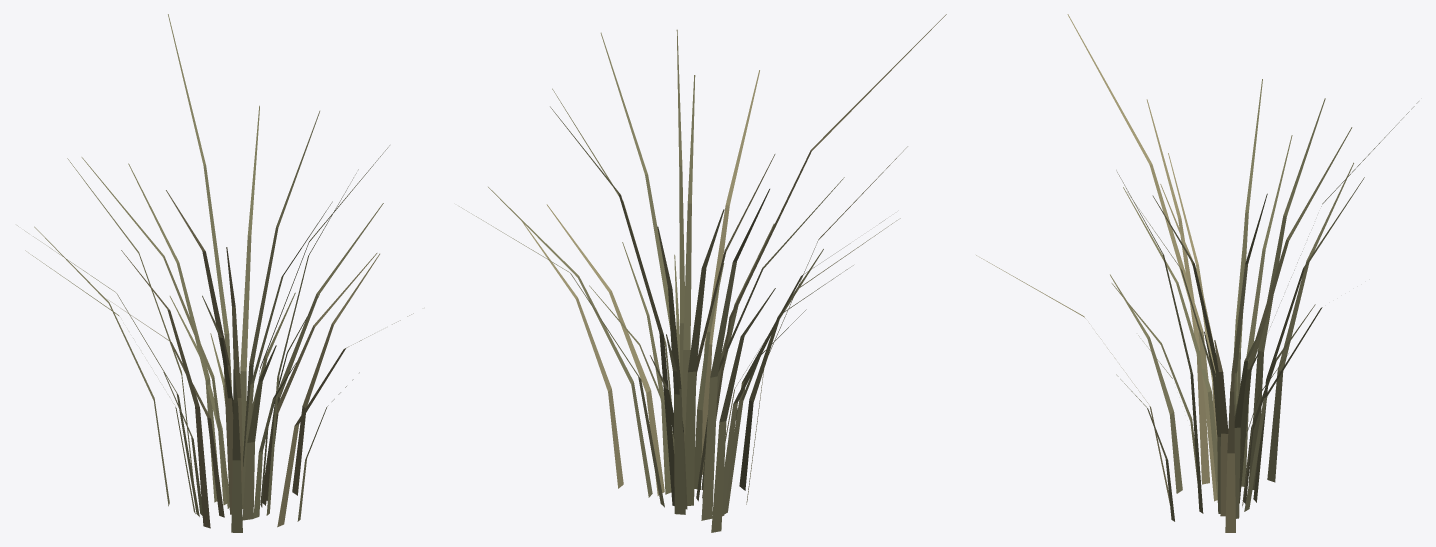
Rendered from ZR_DryWeeds_Tall.fbx.
3 renders of one model, left to right at view 1: azimuth 30°, elevation 25°; view 2: azimuth 150°, elevation 25°; view 3: azimuth 270°, elevation 25°, orthographic. The views are drawn at different scales.
Visible parts, largest first — view 1: ZR_DryWeeds_Tall; view 2: ZR_DryWeeds_Tall; view 3: ZR_DryWeeds_Tall.
Boxes of the visible parts, bbox=[...] form: ZR_DryWeeds_Tall: bbox=[17, 14, 413, 532]; ZR_DryWeeds_Tall: bbox=[459, 14, 946, 532]; ZR_DryWeeds_Tall: bbox=[976, 14, 1418, 532].
Size of the model in its own units: 0.8327 by 0.9019 by 0.8711.
